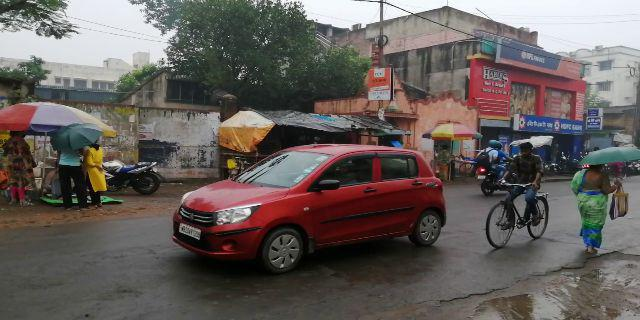Car: (182, 148, 448, 264)
Cycle: (481, 144, 552, 246)
